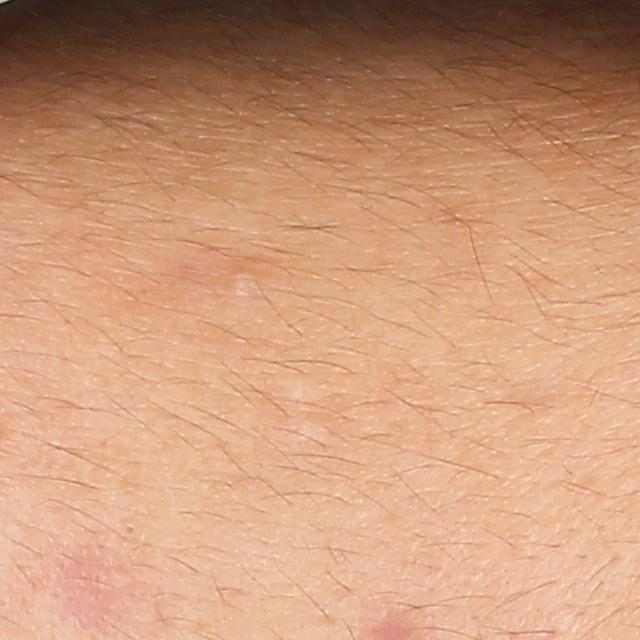comedo: (221, 261, 257, 304), (120, 519, 139, 534)
